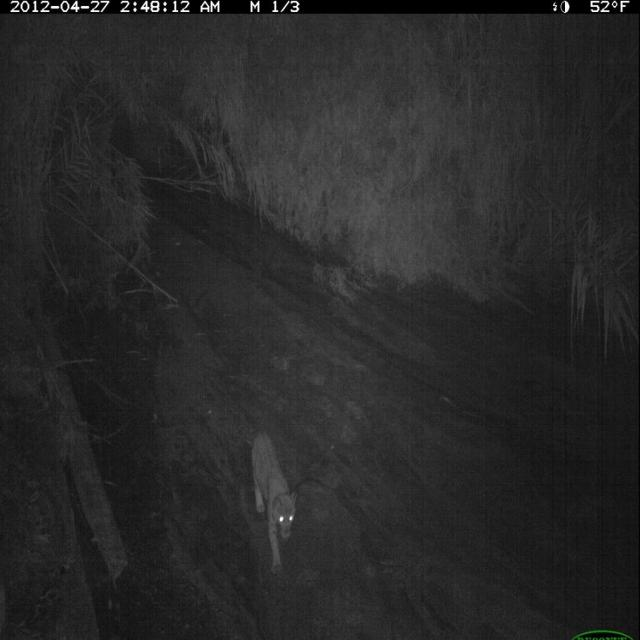bobcat: (246, 426, 302, 581)
